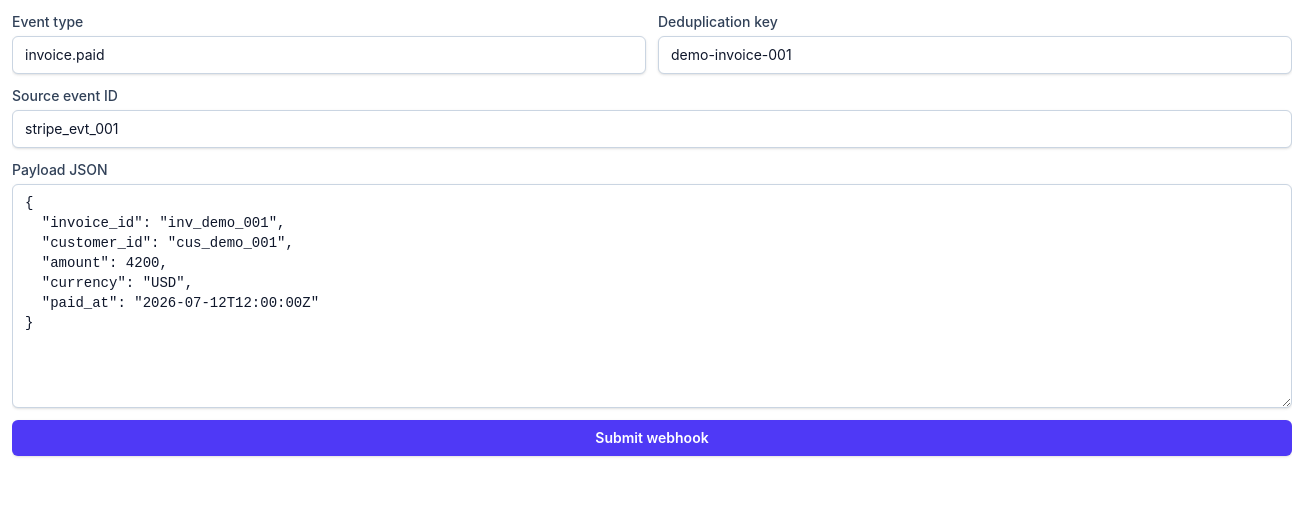
Test case: EventTester › validates JSON object payloads before submitting
The image size is (1304, 506).
Replace the text in the text box labelled "Payload JSON" with "[]" at {"x": 652, "y": 296}, box [12, 184, 1292, 408]
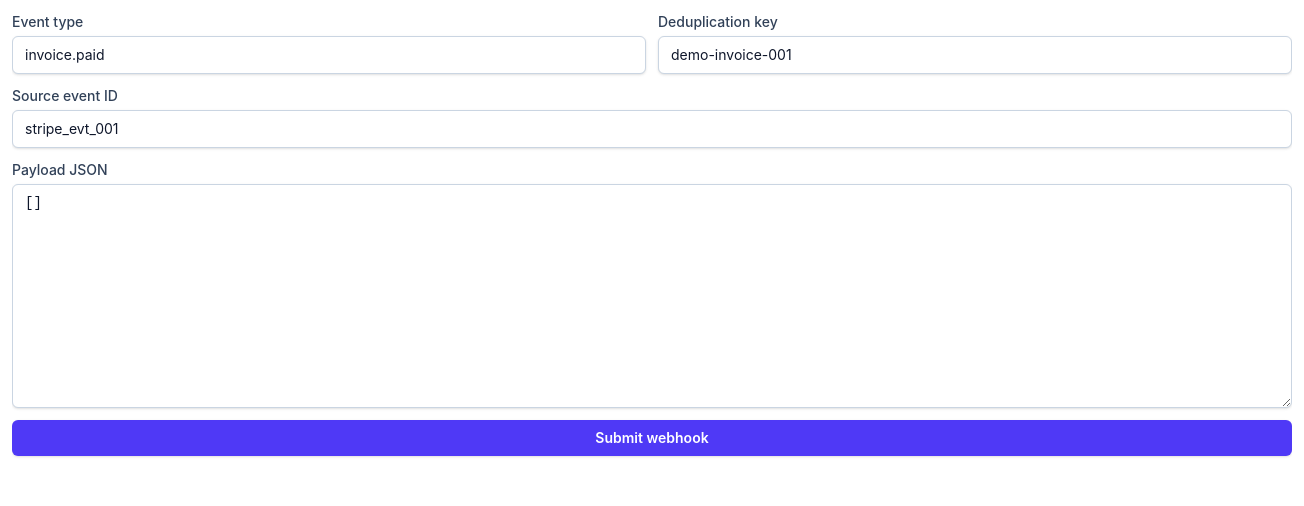
Click the button "Submit webhook" at {"x": 652, "y": 438}, box [12, 420, 1292, 456]
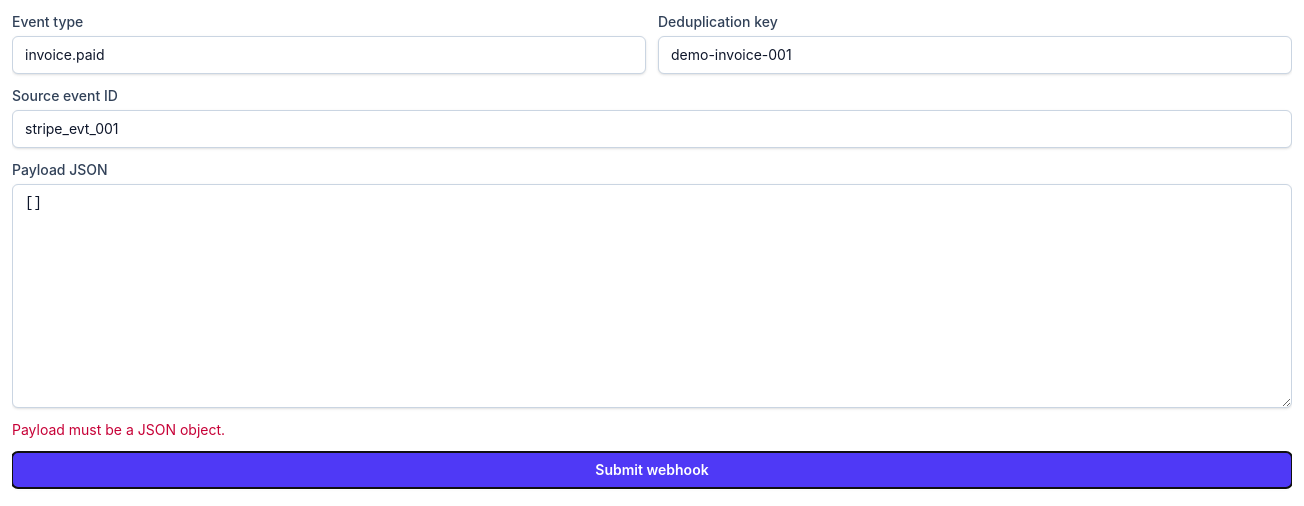
Expected: the text "Payload must be a JSON object." is shown, [12, 421, 225, 438]
